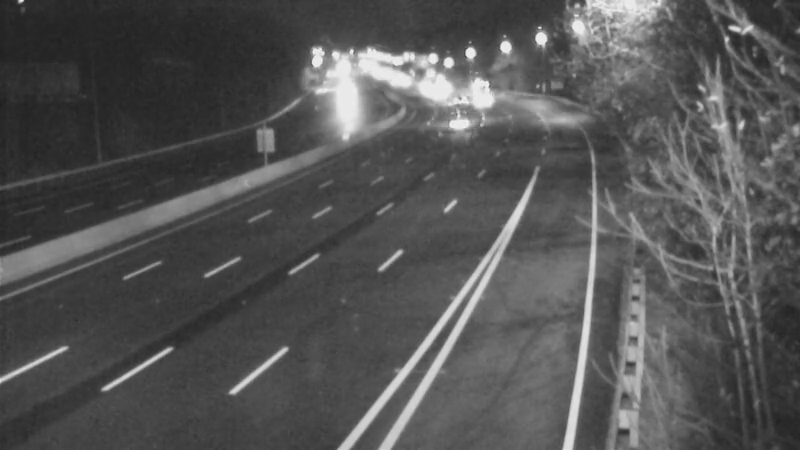vehicle: (396, 61, 446, 111), (456, 59, 506, 109), (431, 72, 481, 122), (452, 73, 502, 123), (429, 100, 479, 150)
